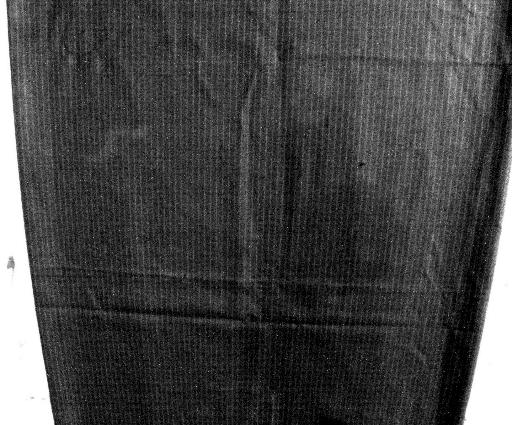fabric_hole: (318, 118, 336, 132), (355, 157, 369, 170)
